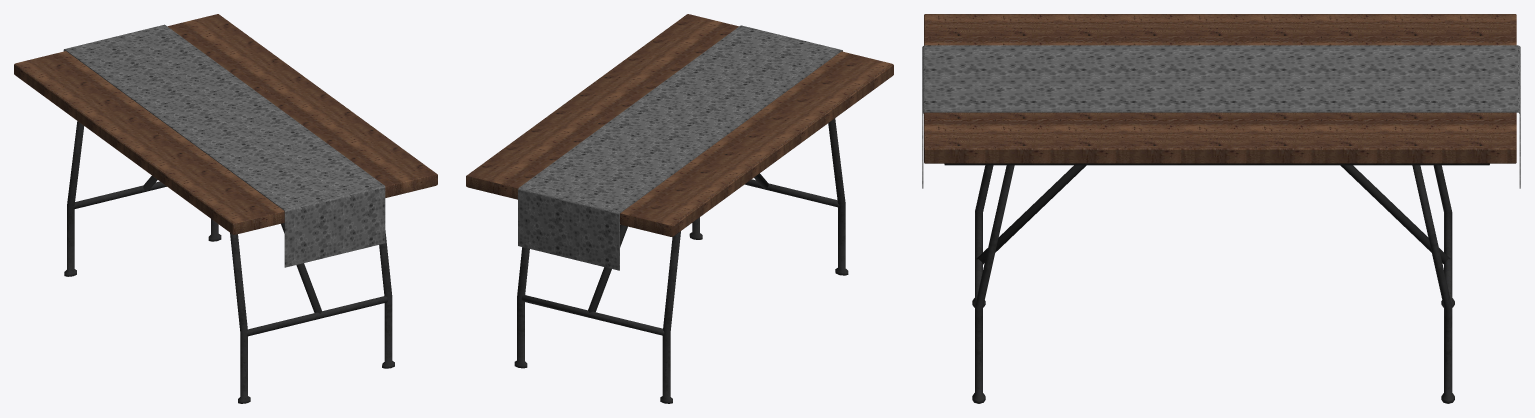
3 views of the same model, side by side, from view 1: azimuth 30°, elevation 25°; view 2: azimuth 150°, elevation 25°; view 3: azimuth 270°, elevation 25° (orthographic). The views are drawn at different scales.
Visible parts, largest first — view 1: Model, Group1, Mesh4, Mesh3; view 2: Model, Group1, Mesh3, Mesh4; view 3: Group1, Model, Mesh3, Mesh4, G_3DGeom_9.
Boxes of the visible parts, <box> form: Model: <box>63,24,385,267</box>; Group1: <box>14,14,437,234</box>; Mesh4: <box>230,223,394,403</box>; Mesh3: <box>64,121,221,276</box>; Model: <box>518,25,842,270</box>; Group1: <box>466,14,893,236</box>; Mesh3: <box>514,224,680,403</box>; Mesh4: <box>689,118,848,275</box>; Group1: <box>924,14,1516,163</box>; Model: <box>922,45,1520,188</box>; Mesh3: <box>1340,165,1454,403</box>; Mesh4: <box>972,165,1086,403</box>; G_3DGeom_9: <box>944,163,1489,165</box>.
Bounding box in the file's own units: 817 × 767 × 1528.
